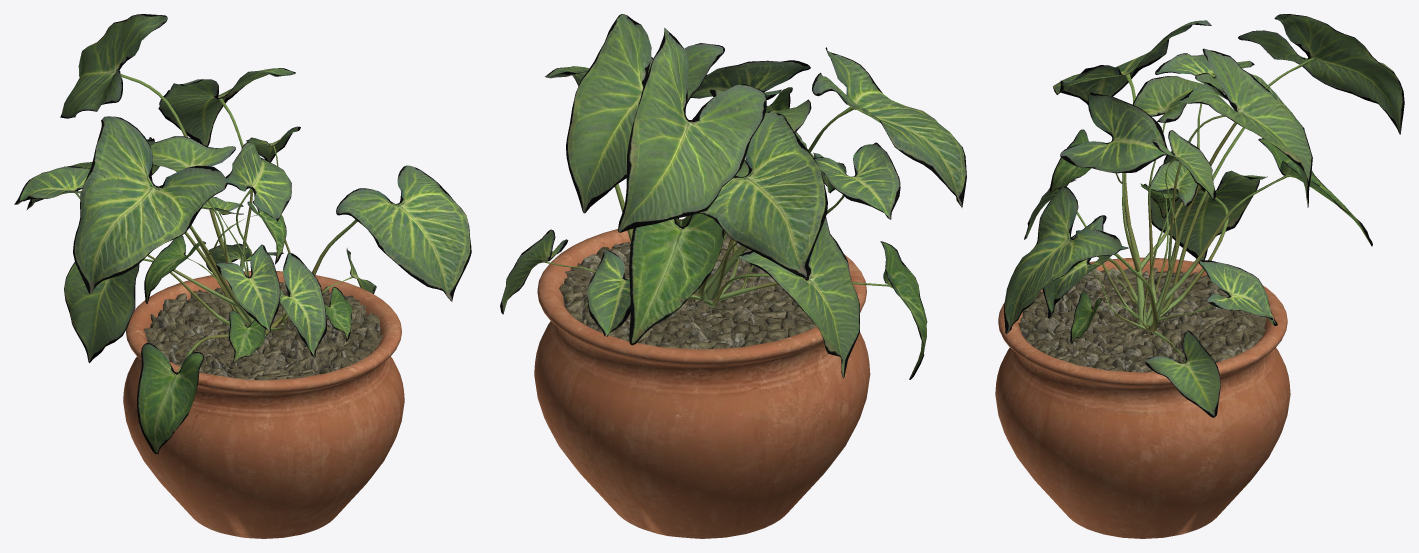
The model's file is ph_potted_plant_02.glb.
The picture shows the model from 3 angles, left to right: view 1: azimuth 30°, elevation 25°; view 2: azimuth 150°, elevation 25°; view 3: azimuth 270°, elevation 25°; orthographic projection. The views are drawn at different scales.
Parts seen in each view (by area): view 1: potted_plant_02_leaves, potted_plant_02_pot, potted_plant_02_dirt; view 2: potted_plant_02_leaves, potted_plant_02_pot, potted_plant_02_dirt; view 3: potted_plant_02_leaves, potted_plant_02_pot, potted_plant_02_dirt.
Part boxes in pixels (box(x1,y1,x2,y2)): potted_plant_02_leaves: box(14, 14, 471, 453); potted_plant_02_pot: box(123, 271, 404, 538); potted_plant_02_dirt: box(143, 282, 383, 380); potted_plant_02_leaves: box(500, 14, 966, 379); potted_plant_02_pot: box(534, 219, 870, 538); potted_plant_02_dirt: box(559, 234, 816, 349); potted_plant_02_leaves: box(1004, 14, 1404, 417); potted_plant_02_pot: box(995, 257, 1290, 538); potted_plant_02_dirt: box(1018, 267, 1266, 372).
Size of the model in its own units: 0.7012 by 0.8412 by 0.6574.
Materials: 2 (2 with a texture image).
